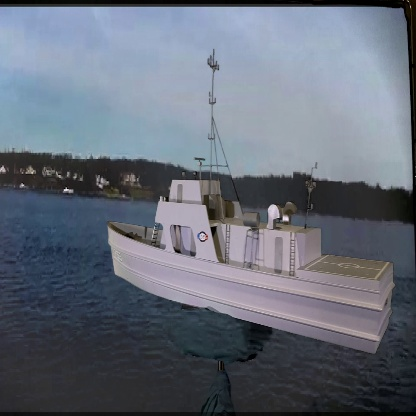YP689: (108, 44, 394, 354)
